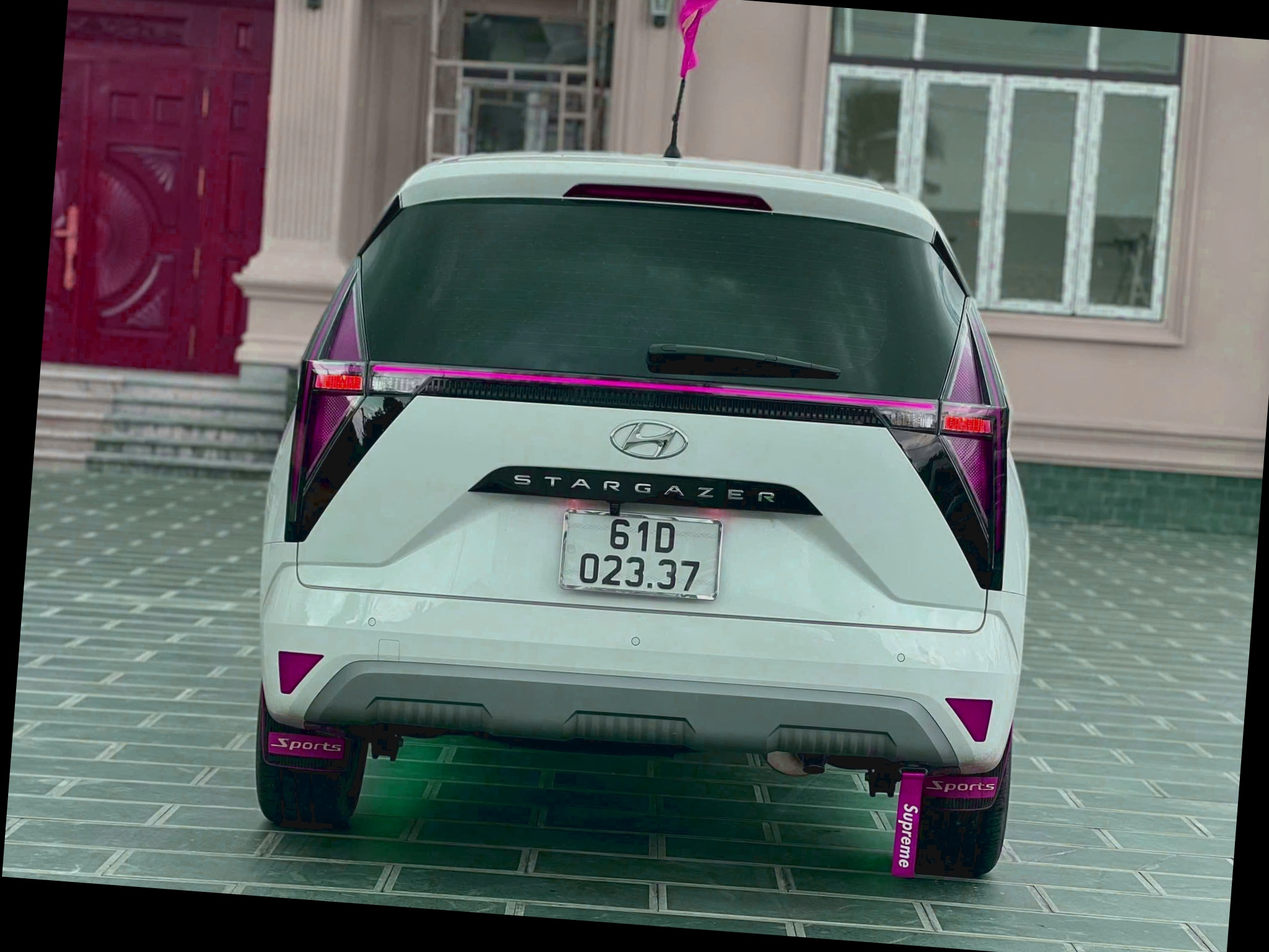Bien-so: (569, 498, 749, 612)
